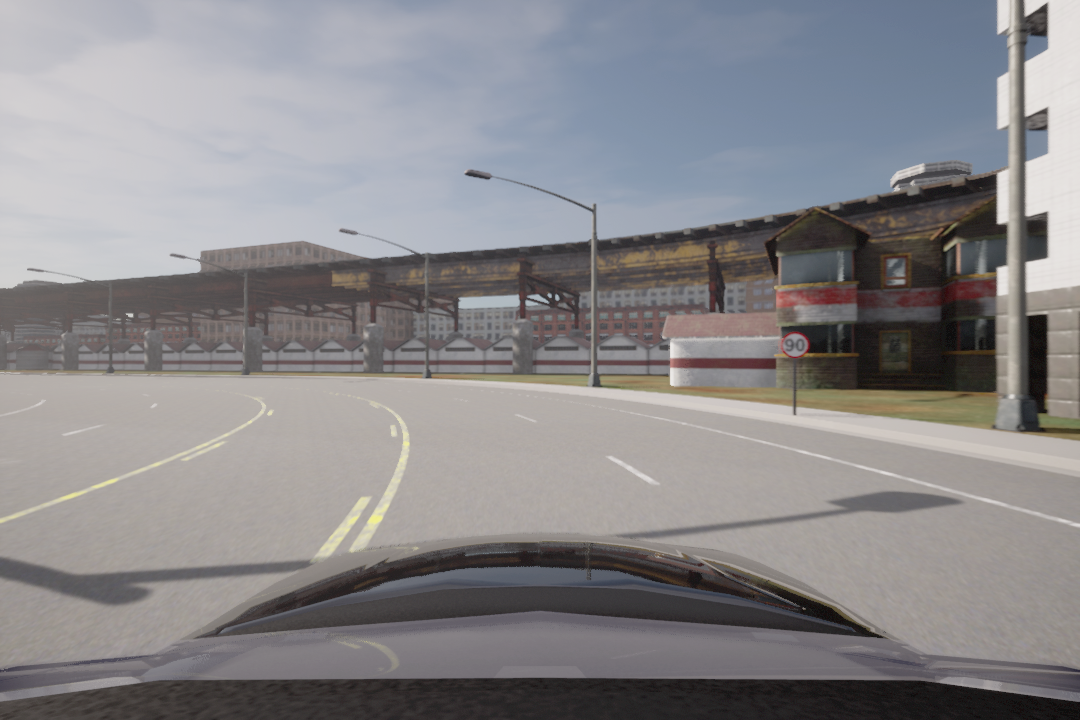TrafficSign_speed: (777, 332, 811, 359)
